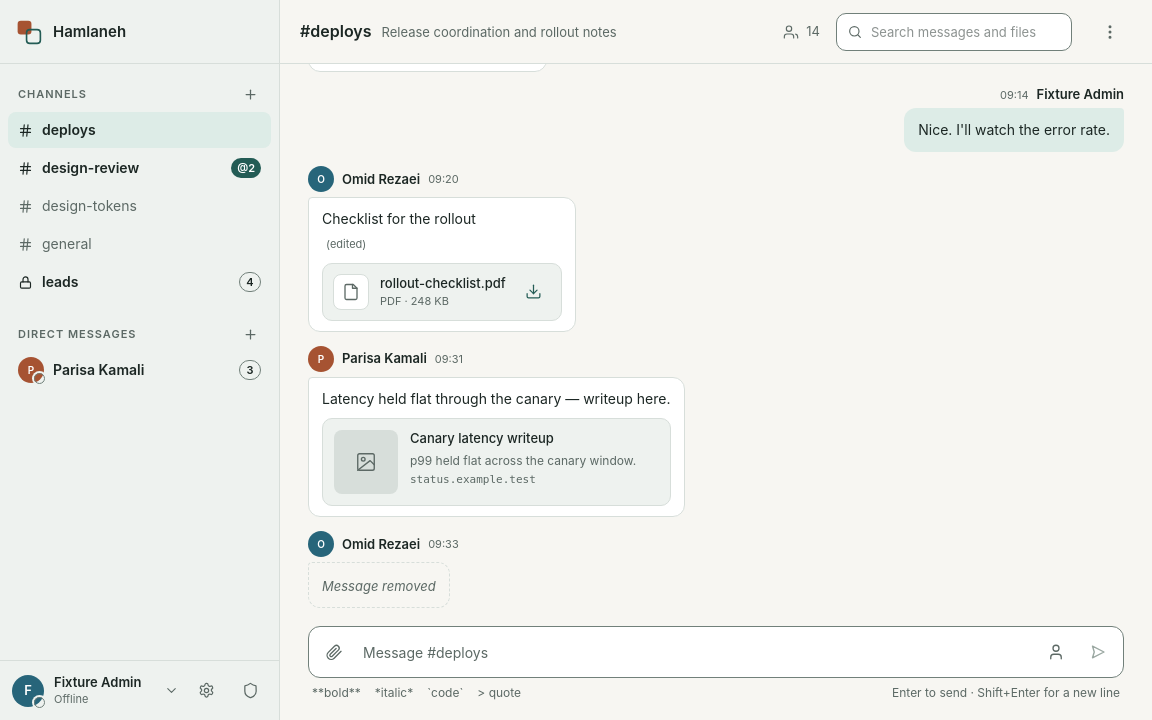
Test: search › returns results and jumps to one in its conversation
(page scrolled)
In the search field labelled "Search messages and files": (954, 32) [836,12,1072,50], type "canary"
Then press Enter
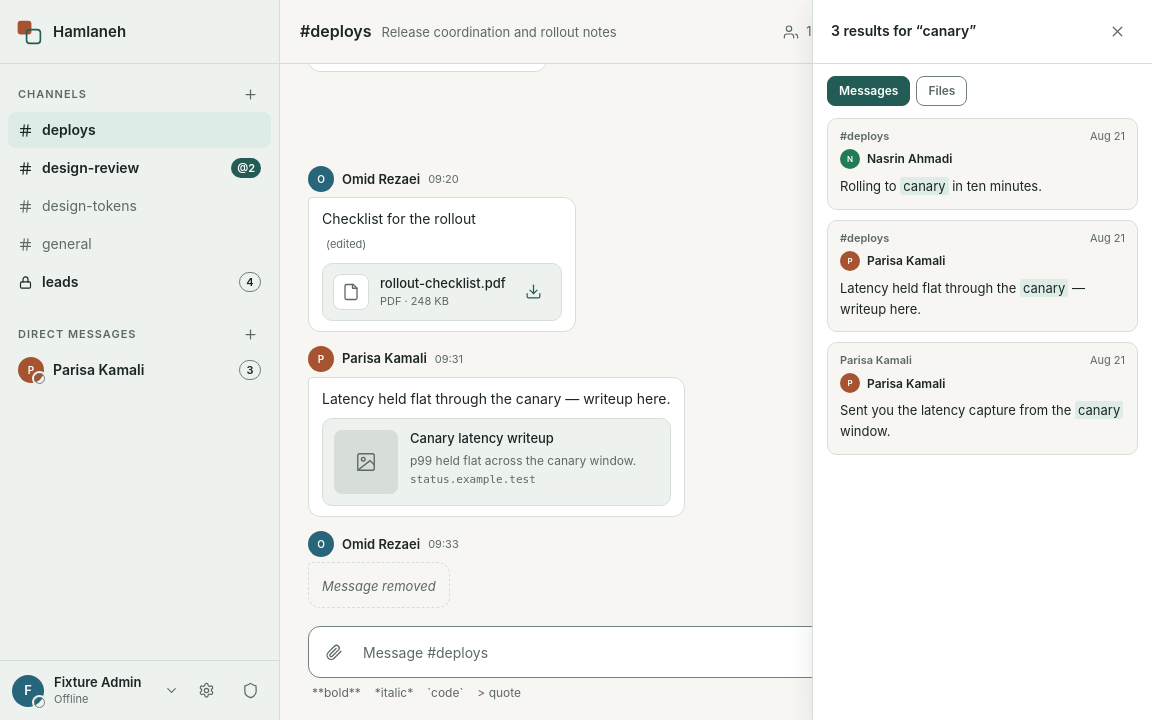
Now the text "canary" next to "Rolling to" is shown, box [903,178,946,194]
Click the link "latency capture": (876, 360) [827,342,1138,455]
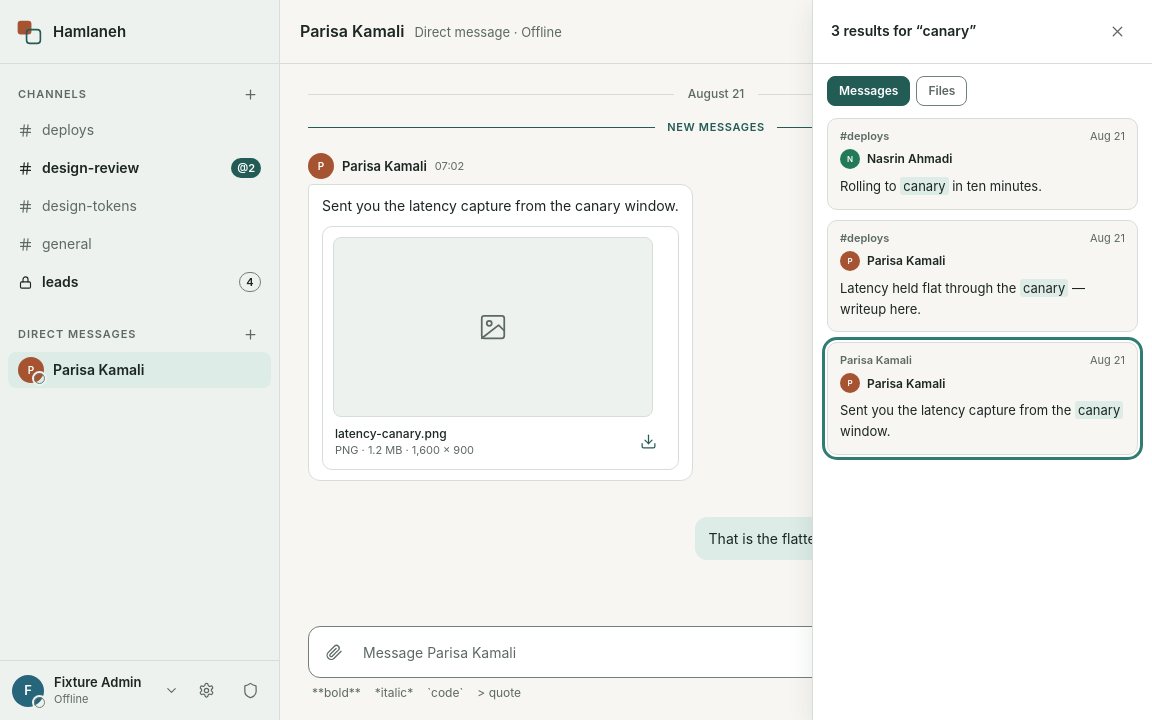
Now the text "Sent you the latency capture from the canary window." is shown, box [322,195,679,217]
